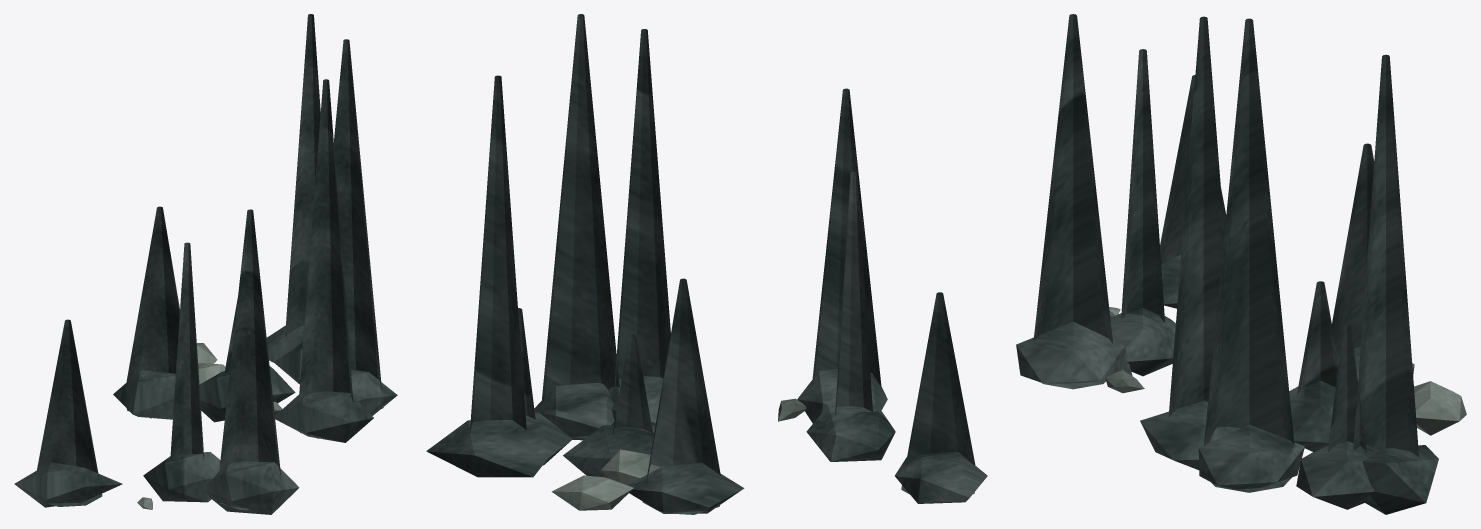
The model's file is 0094_stalagmites_19.glb.
3 views of the same model, side by side, from view 1: azimuth 30°, elevation 25°; view 2: azimuth 150°, elevation 25°; view 3: azimuth 270°, elevation 25° (orthographic). The views are drawn at different scales.
Parts seen in each view (by area): view 1: stone_dark, stone; view 2: stone_dark, stone; view 3: stone_dark, stone.
Part boxes in pixels (x1,y1,x2,y2): stone_dark: (14,14,397,514); stone: (137,343,282,509); stone_dark: (426,14,987,514); stone: (551,398,806,510); stone_dark: (1016,14,1438,514); stone: (1105,307,1466,435).
Bounding box in the file's own units: 3.02 × 2.67 × 2.32.
Materials: 2 (2 with a texture image).
